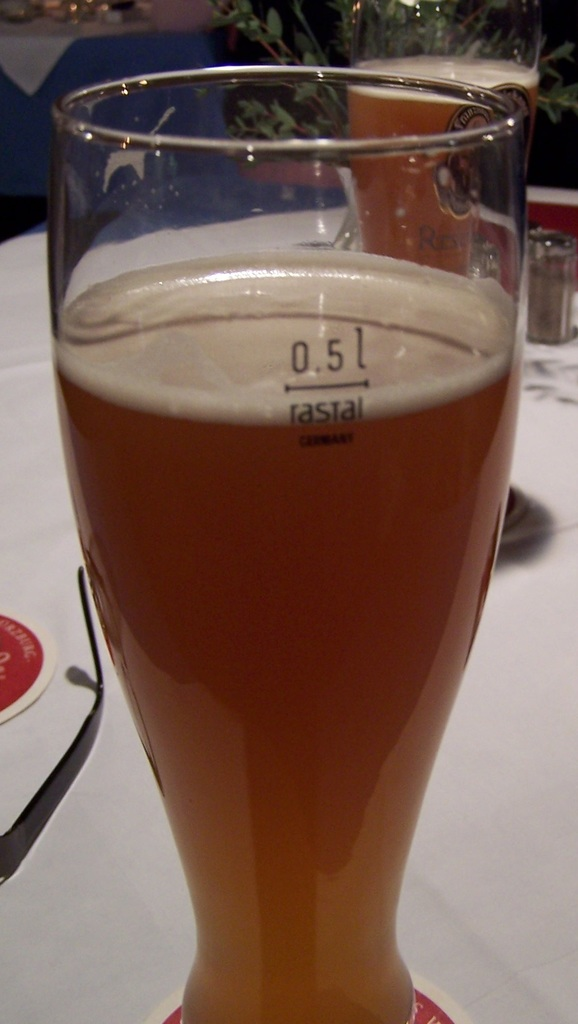Beer: (43, 64, 530, 1024), (346, 49, 546, 282)
